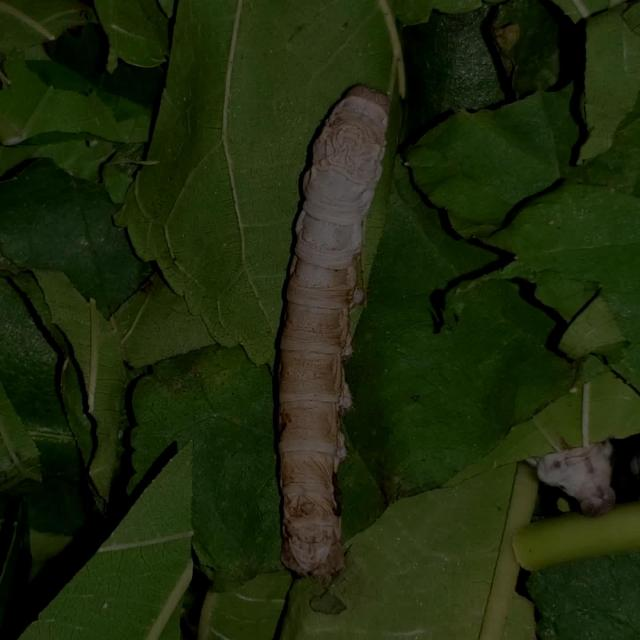Grasserie: (261, 68, 389, 580)
